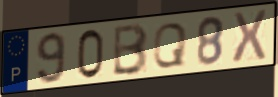0: (76, 27, 106, 81)
8: (196, 15, 225, 68)
9: (35, 30, 67, 86)
B: (111, 21, 150, 77)
Q: (151, 21, 189, 70)
X: (230, 8, 268, 66)
